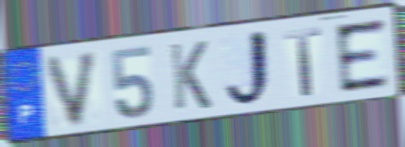5: (109, 42, 156, 121)
E: (332, 15, 393, 96)
J: (222, 27, 276, 110)
K: (167, 39, 214, 113)
T: (282, 24, 325, 98)
V: (43, 48, 103, 130)
